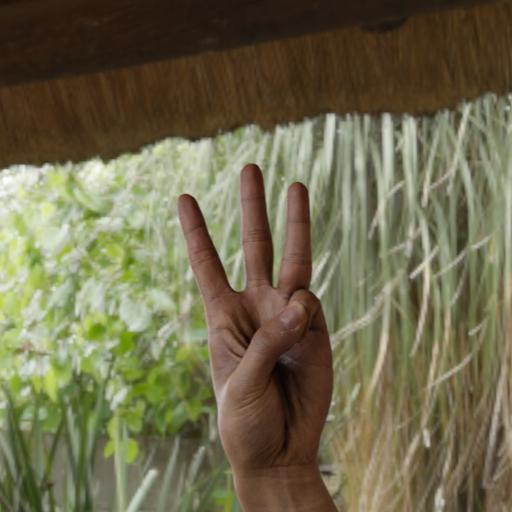W: (156, 150, 359, 476)
